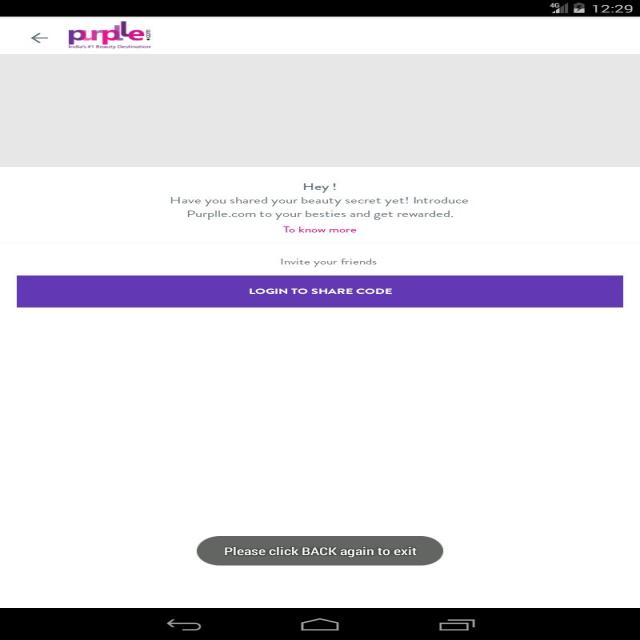button: (20, 276, 622, 308), (22, 22, 56, 50)
image: (64, 23, 159, 52)
text: (160, 179, 484, 222), (222, 544, 419, 558), (279, 256, 379, 267), (281, 224, 362, 234)
